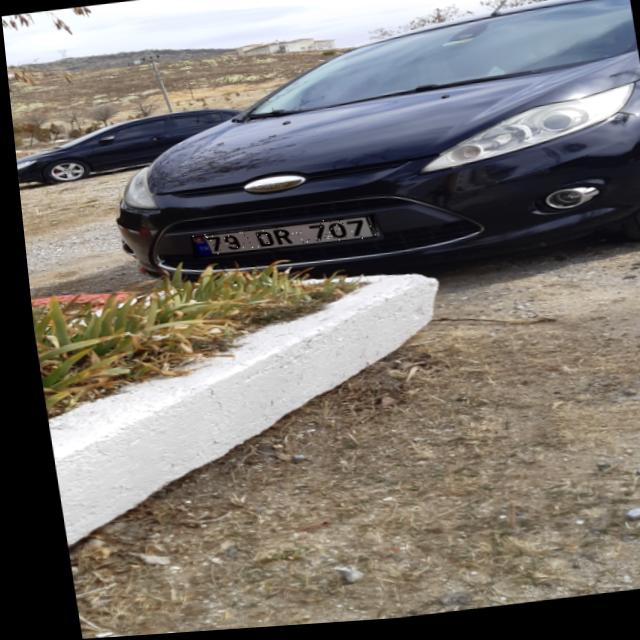plate: (185, 219, 375, 261)
